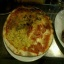pizza: (3, 10, 54, 51)
